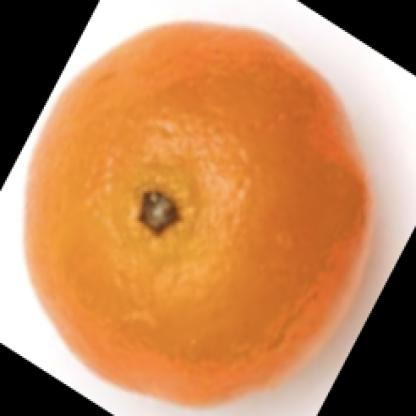fresh: (27, 23, 367, 403)
